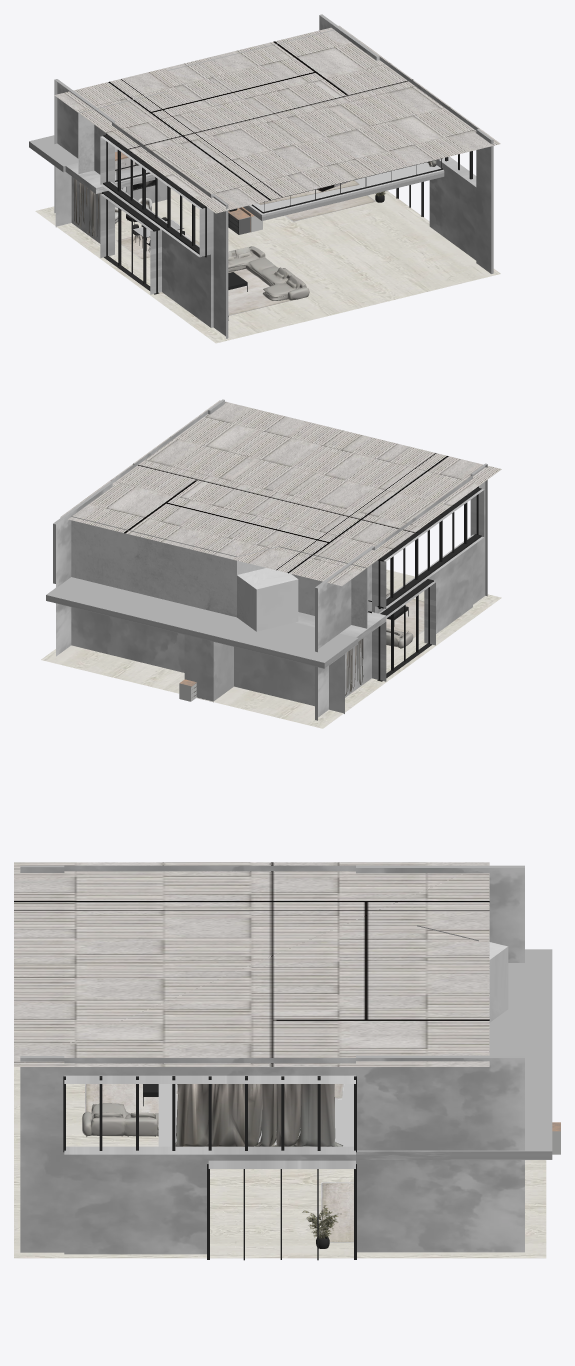
File: room.glb
The picture shows the model from 3 angles, top to bottom: view 1: azimuth 30°, elevation 25°; view 2: azimuth 150°, elevation 25°; view 3: azimuth 270°, elevation 25°; orthographic projection. The views are drawn at different scales.
Parts seen in each view (by area): view 1: Plane.012, Plane, Plane.003, node_0.010_Material.002_0, Cube, Sofa_HQ, Plane.001, Plane.014, Plane.002, Plane.005, Plane.004, node_0.002_Material.013_0 (+6 smaller); view 2: Plane.012, Plane.002, Plane.003, Plane.001, Cube, Plane, node_0.010_Material.002_0, Plane.005, Plane.014, Plane.004, Plane.006, node_0.002_Material.013_0 (+1 smaller); view 3: Plane.012, node_0.010_Material.002_0, Plane, Cube, node_0.014_Material.013_0, Plane.003, node_0.010_Material.004_0, Sofa_HQ, Plane.011, Plane.002, Plane.014, Cube.025.
Part boxes in pixels (box(x1,y1,x2,y2)): Plane.012: box(54, 25, 500, 213); Plane: box(35, 188, 500, 343); Plane.003: box(54, 79, 228, 338); node_0.010_Material.002_0: box(319, 14, 493, 273); Cube: box(29, 135, 444, 220); Sofa_HQ: box(228, 246, 309, 300); Plane.001: box(55, 167, 167, 227); Plane.014: box(228, 269, 290, 315); Plane.002: box(78, 29, 334, 174); Plane.005: box(106, 133, 206, 257); Plane.004: box(106, 199, 157, 293); node_0.002_Material.013_0: box(74, 178, 101, 237); Plane.012: box(60, 400, 501, 586); Plane.002: box(71, 516, 367, 631); Plane.003: box(315, 463, 487, 720); Plane.001: box(71, 607, 344, 713); Cube: box(46, 577, 386, 668); Plane: box(41, 569, 501, 728); node_0.010_Material.002_0: box(53, 399, 224, 656); Plane.005: box(378, 486, 478, 608); Plane.014: box(386, 598, 424, 638); Plane.004: box(378, 587, 429, 680); Plane.006: box(377, 534, 481, 608); node_0.002_Material.013_0: box(345, 638, 363, 695); Plane.012: box(14, 862, 489, 1066); node_0.010_Material.002_0: box(20, 1055, 524, 1254); Plane: box(14, 1067, 546, 1258); Cube: box(158, 949, 552, 1159); node_0.014_Material.013_0: box(175, 1084, 342, 1146); Plane.003: box(20, 865, 524, 962); node_0.010_Material.004_0: box(63, 1076, 356, 1260); Sofa_HQ: box(82, 1103, 158, 1136); Plane.011: box(321, 1182, 353, 1242); Plane.002: box(416, 925, 508, 1022); Plane.014: box(85, 1084, 158, 1113); Cube.025: box(302, 1205, 341, 1248).
Size of the model in its own units: 20.11 by 8.97 by 12.58.
22 materials, 20 textured.
